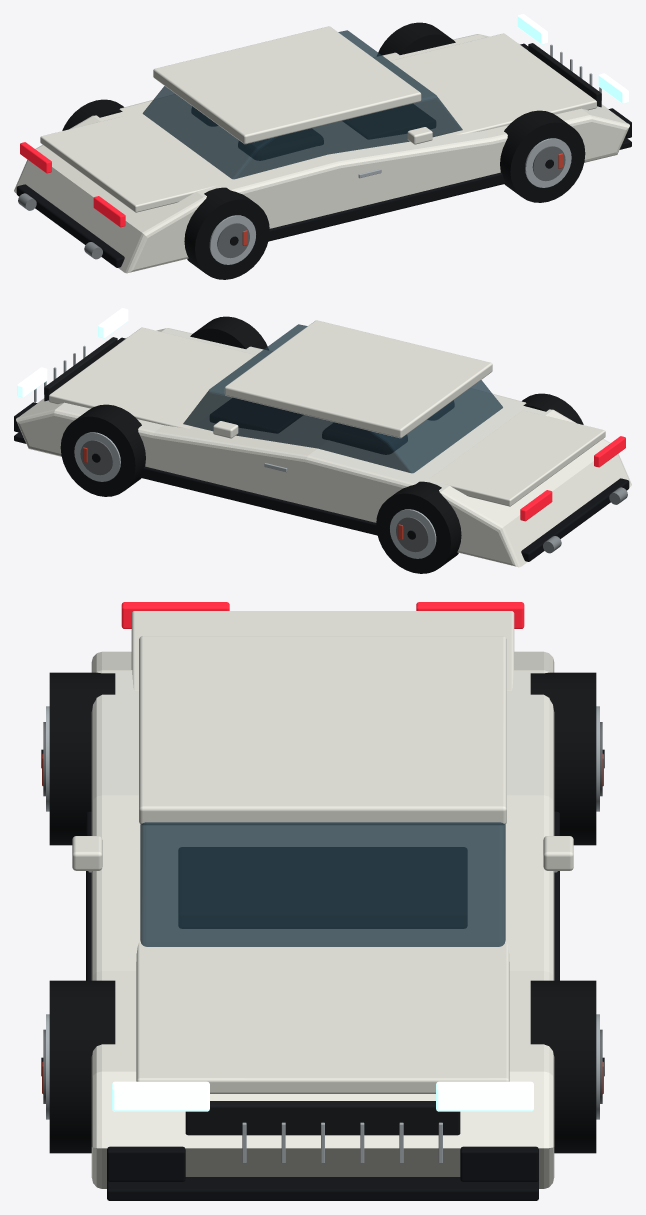
File: lambo_countach_lpi_800_4.glb
3 renders of one model, top to bottom at view 1: azimuth 30°, elevation 25°; view 2: azimuth 150°, elevation 25°; view 3: azimuth 270°, elevation 25°, orthographic. The views are drawn at different scales.
Visible parts, largest first — view 1: sculpted_body, roof, hood_center, glasshouse, rear_deck, front_right_wheel_tire, rear_right_wheel_tire, side_skirt_1, dashboard, rear_diffuser, front_left_wheel_tire, seat_1 (+10 smaller); view 2: sculpted_body, roof, hood_center, glasshouse, rear_deck, front_left_wheel_tire, rear_left_wheel_tire, side_skirt_-1, dashboard, rear_diffuser, front_right_wheel_tire, seat_-1 (+10 smaller); view 3: sculpted_body, roof, hood_center, glasshouse, dashboard, rear_deck, front_splitter, front_left_wheel_tire, front_right_wheel_tire, front_grille, rear_left_wheel_tire, rear_right_wheel_tire (+8 smaller).
Part boxes in pixels (bbox=[...]): sculpted_body: bbox=[14, 34, 629, 273]; roof: bbox=[153, 26, 421, 144]; hood_center: bbox=[381, 33, 596, 134]; glasshouse: bbox=[142, 30, 462, 179]; rear_deck: bbox=[40, 116, 216, 212]; front_right_wheel_tire: bbox=[500, 110, 585, 202]; rear_right_wheel_tire: bbox=[184, 187, 269, 279]; side_skirt_1: bbox=[268, 172, 506, 241]; dashboard: bbox=[343, 104, 435, 138]; rear_diffuser: bbox=[16, 184, 124, 267]; front_left_wheel_tire: bbox=[377, 22, 455, 55]; seat_1: bbox=[238, 129, 323, 160]; sculpted_body: bbox=[16, 328, 631, 567]; roof: bbox=[224, 320, 492, 438]; hood_center: bbox=[49, 327, 264, 428]; glasshouse: bbox=[183, 324, 502, 473]; rear_deck: bbox=[429, 410, 605, 506]; front_left_wheel_tire: bbox=[60, 404, 145, 496]; rear_left_wheel_tire: bbox=[376, 481, 461, 573]; side_skirt_-1: bbox=[139, 466, 377, 535]; dashboard: bbox=[210, 398, 302, 432]; rear_diffuser: bbox=[521, 478, 629, 561]; front_right_wheel_tire: bbox=[190, 316, 268, 349]; seat_-1: bbox=[322, 423, 407, 454]; sculpted_body: bbox=[91, 651, 554, 1188]; roof: bbox=[139, 636, 506, 824]; hood_center: bbox=[136, 941, 509, 1093]; glasshouse: bbox=[140, 822, 505, 946]; dashboard: bbox=[179, 847, 466, 928]; rear_deck: bbox=[131, 611, 514, 690]; front_splitter: bbox=[107, 1177, 538, 1200]; front_left_wheel_tire: bbox=[530, 980, 596, 1153]; front_right_wheel_tire: bbox=[49, 980, 115, 1153]; front_grille: bbox=[185, 1101, 460, 1135]; rear_left_wheel_tire: bbox=[530, 672, 596, 845]; rear_right_wheel_tire: bbox=[49, 672, 115, 845].
Size of the model in its own units: 5.21 by 1.12 by 2.41.
